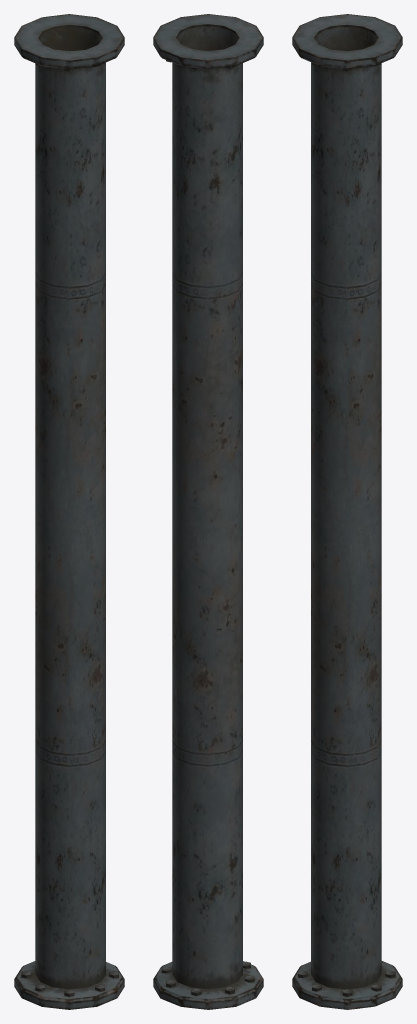
The model's file is pipe02.gltf.
3 renders of one model, left to right at view 1: azimuth 90°, elevation 25°; view 2: azimuth 210°, elevation 25°; view 3: azimuth 270°, elevation 25°, orthographic.
Visible parts, largest first — view 1: pipe02; view 2: pipe02; view 3: pipe02.
Part boxes in pixels (<box>): pipe02: <box>14,14,124,1009</box>; pipe02: <box>153,14,263,1009</box>; pipe02: <box>292,14,402,1009</box>.
Bounding box in the file's own units: 0.2071 × 1.95 × 0.2063.
Materials: 1 (1 with a texture image).
